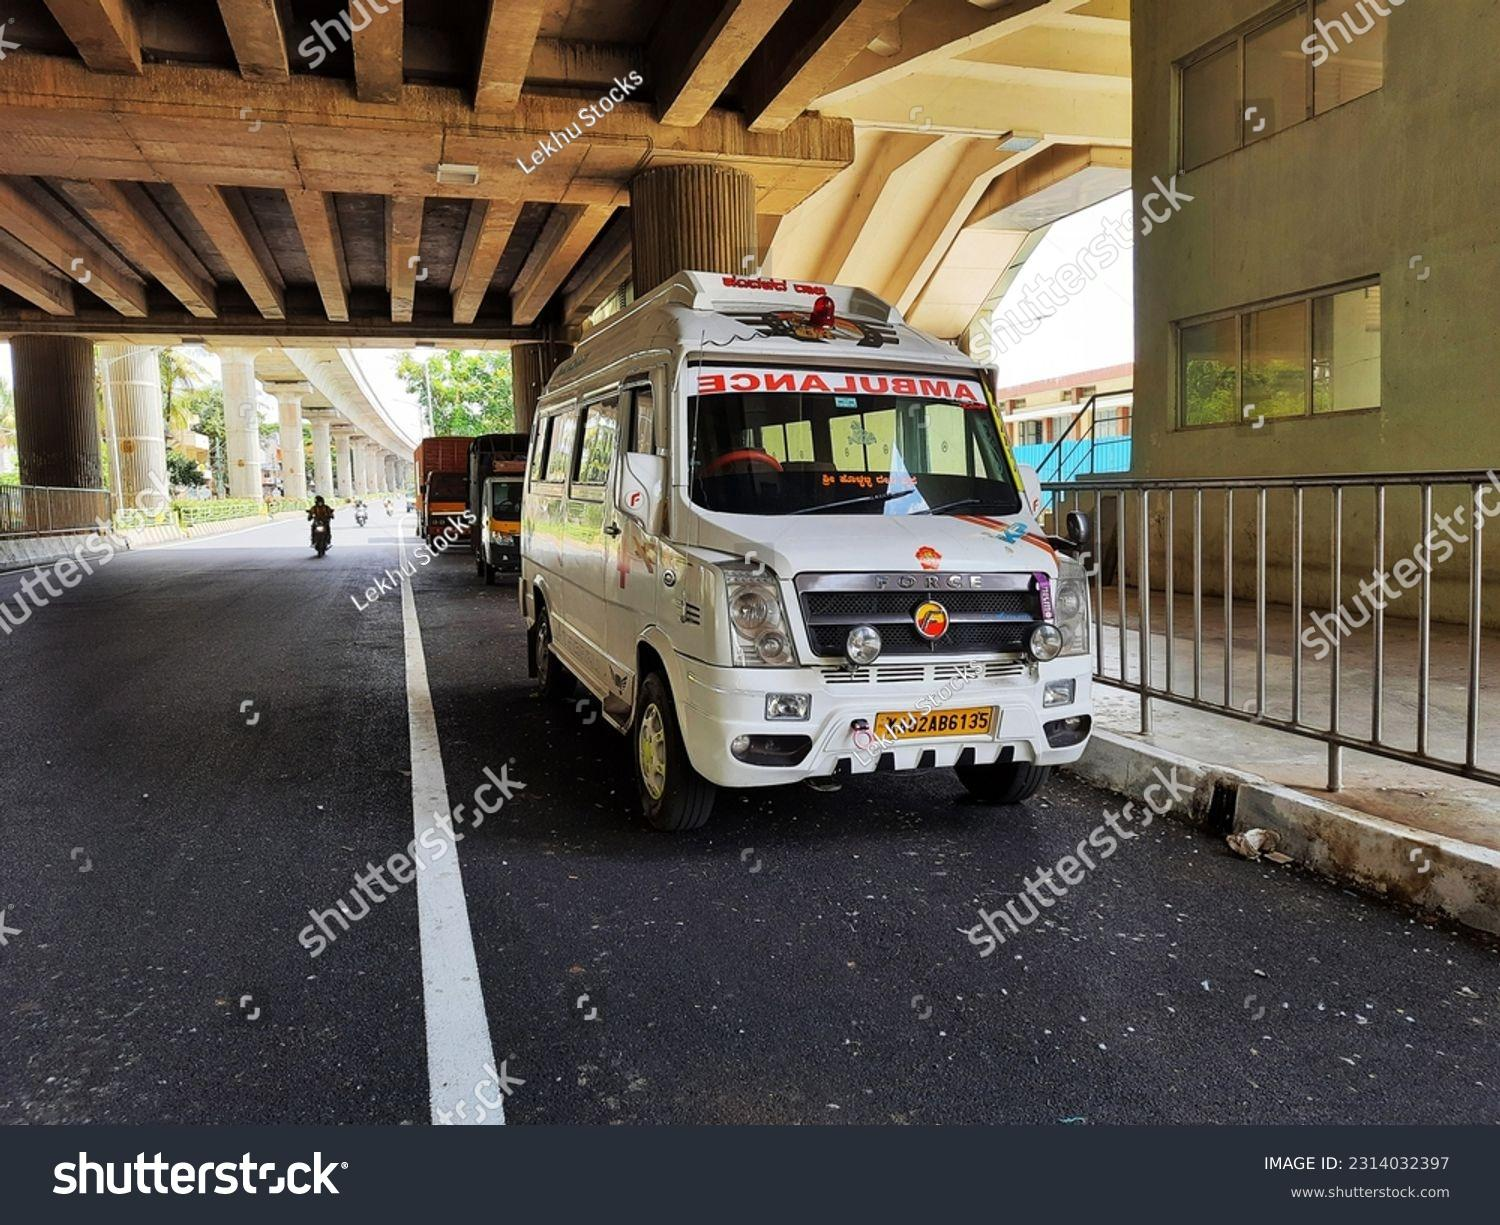ER: (515, 273, 1101, 804)
